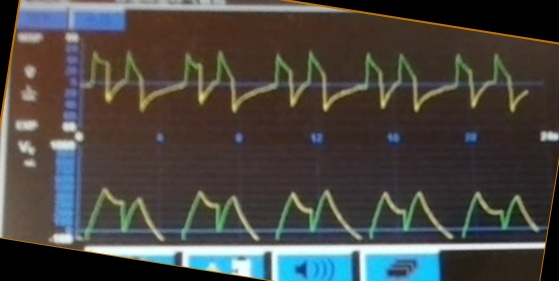Double_Triggering Flow: (84, 49, 527, 114)
Double_Triggering Volume: (82, 184, 537, 242)
